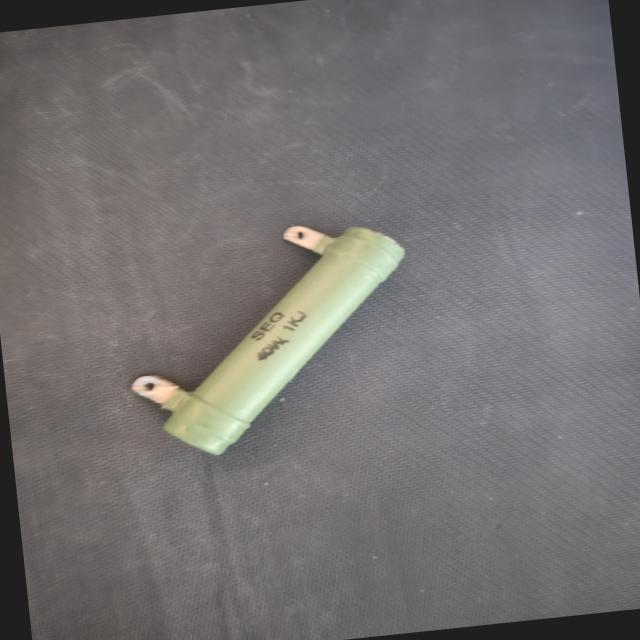resistor: (108, 205, 441, 479)
